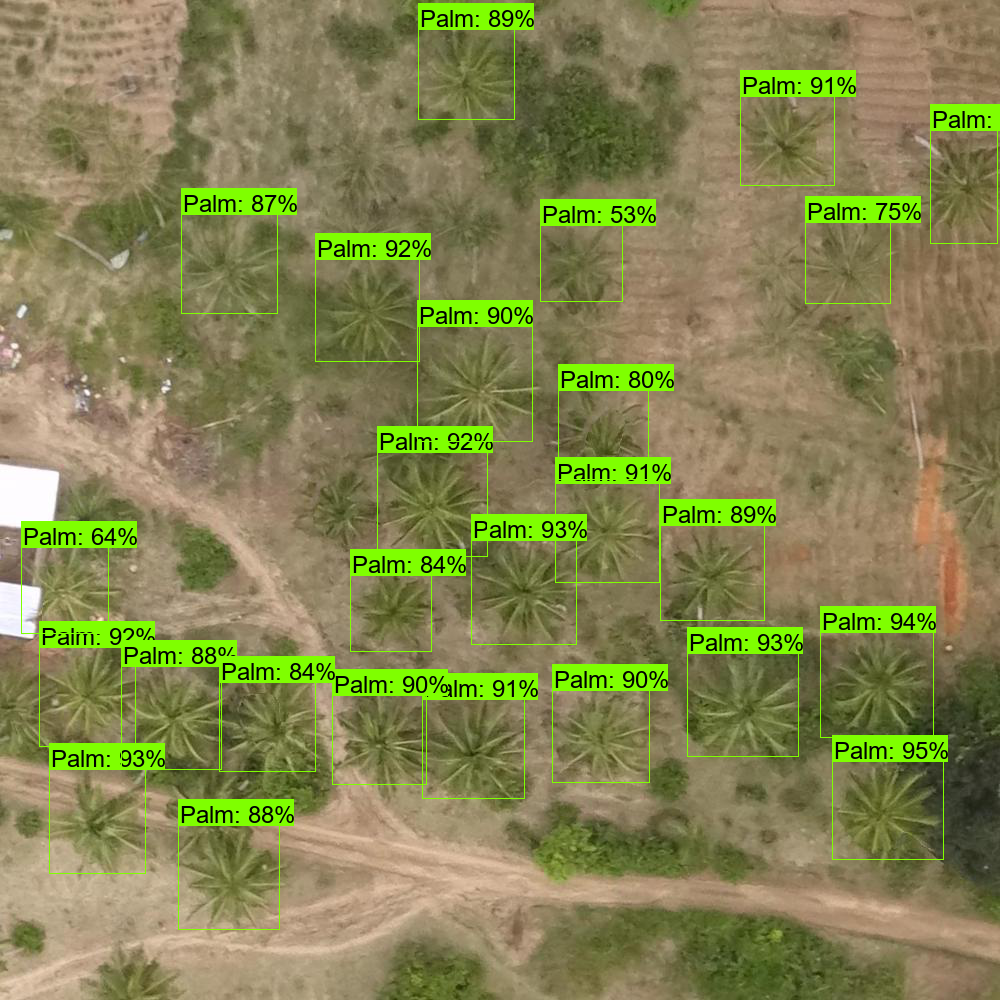Palm: (426, 338, 533, 445), (695, 654, 797, 756), (376, 465, 479, 562), (334, 691, 426, 792), (428, 700, 524, 796), (231, 680, 328, 775), (553, 686, 646, 781), (911, 133, 1000, 232), (741, 94, 833, 189), (188, 835, 280, 928), (670, 530, 761, 624), (50, 784, 150, 869), (128, 677, 220, 769), (480, 541, 570, 633), (832, 640, 923, 729), (424, 35, 515, 124), (843, 765, 933, 854), (165, 772, 259, 856), (552, 398, 641, 485), (325, 272, 411, 358), (26, 551, 116, 633), (562, 490, 648, 573), (40, 655, 126, 733), (543, 226, 627, 305), (934, 433, 1000, 526), (366, 405, 450, 477), (58, 481, 129, 560), (358, 572, 432, 645), (314, 480, 377, 548)
